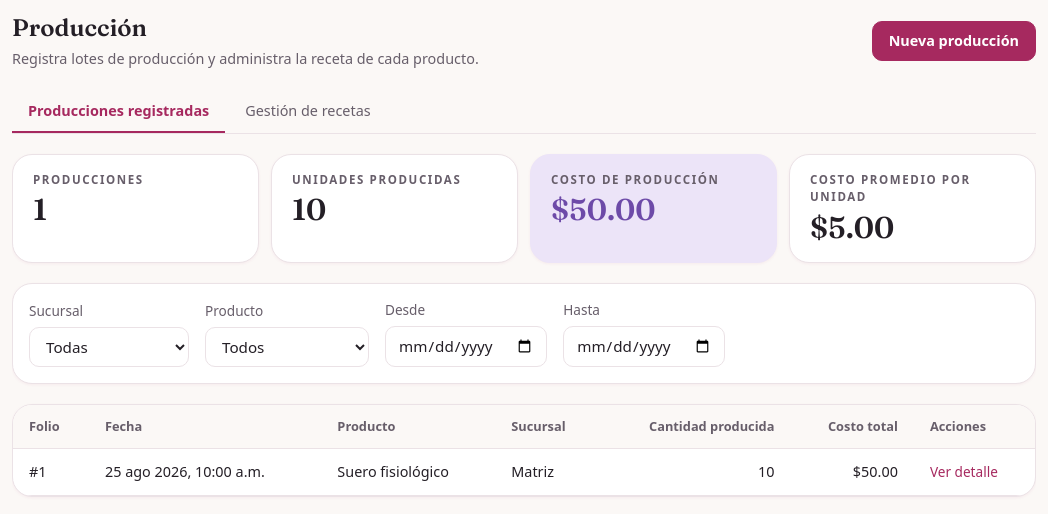
Test: Produccion › "Limpiar filtros" solo aparece con algún filtro aplicado y los restablece
Expected: the button "Limpiar filtros" is not shown
Select "Matriz" in the dropdown labelled "Sucursal" at [109, 347], box [29,327,189,367]
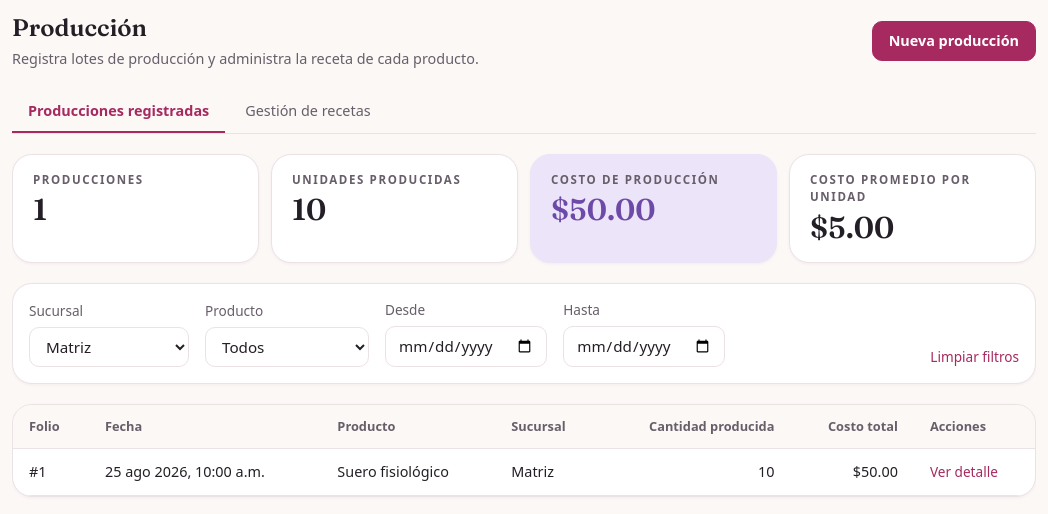
Click the button "Limpiar filtros" at [975, 357], box [930,346,1019,367]
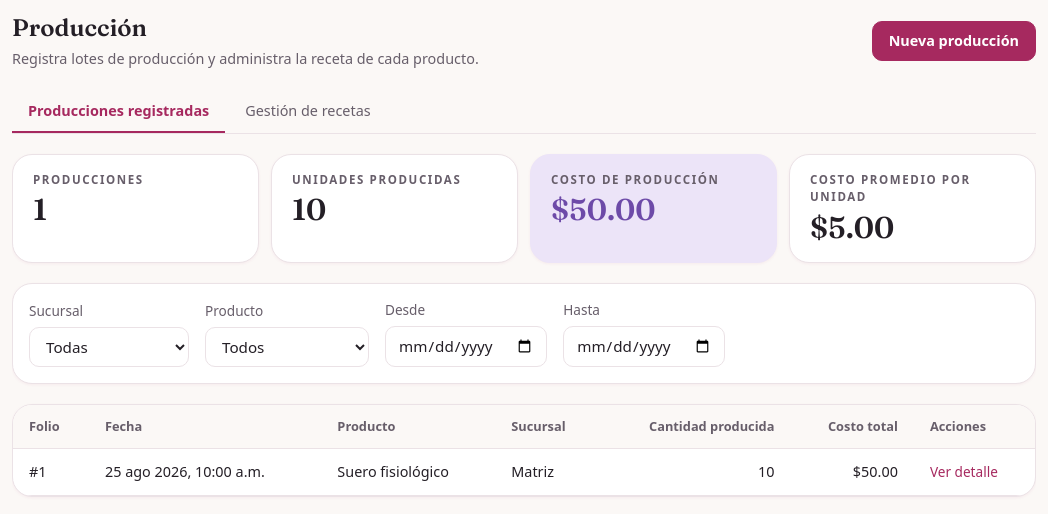
Expected: the button "Limpiar filtros" is gone
